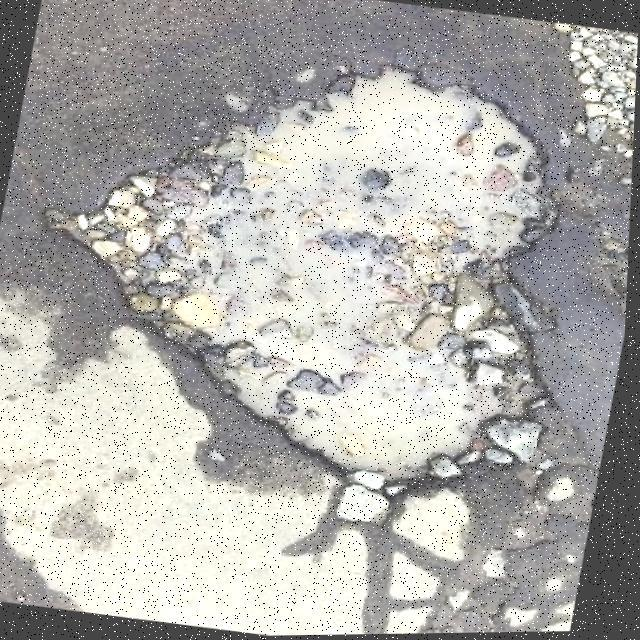pothole: (4, 19, 610, 526)
